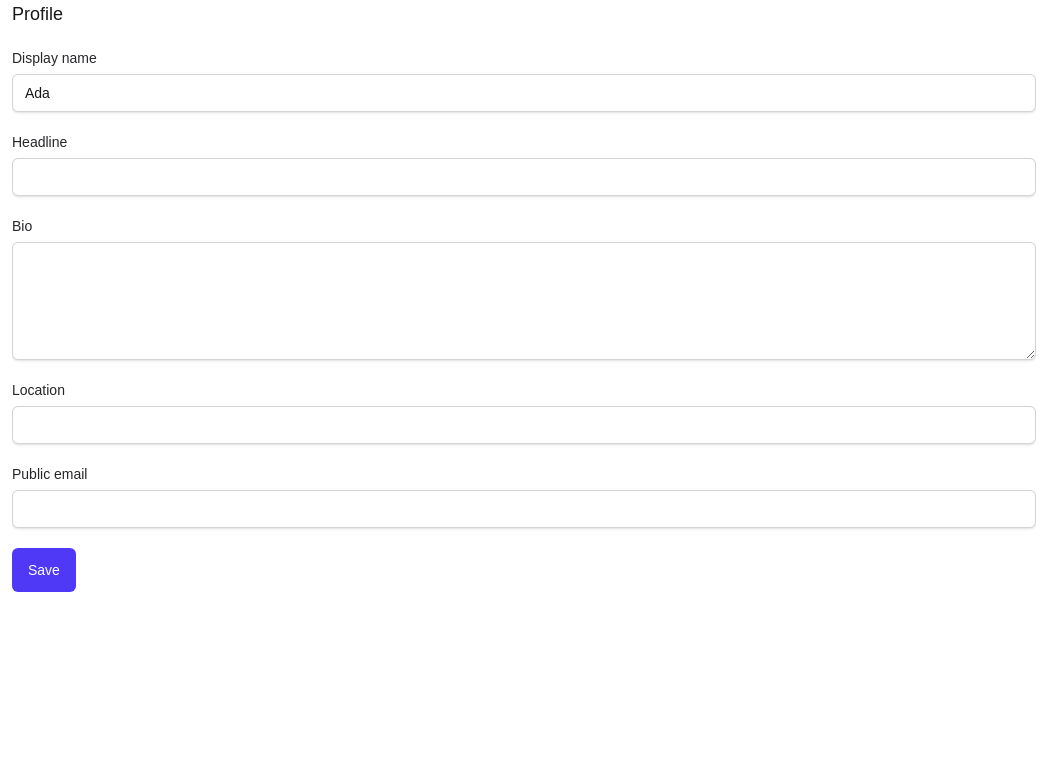
Test: ProfileEditor › shows a network error when the request fails
Expected: the field labelled "Display name" is shown, [12,74,1036,112]
Type "x" into the field labelled "Headline" at [524, 177], box [12,158,1036,196]
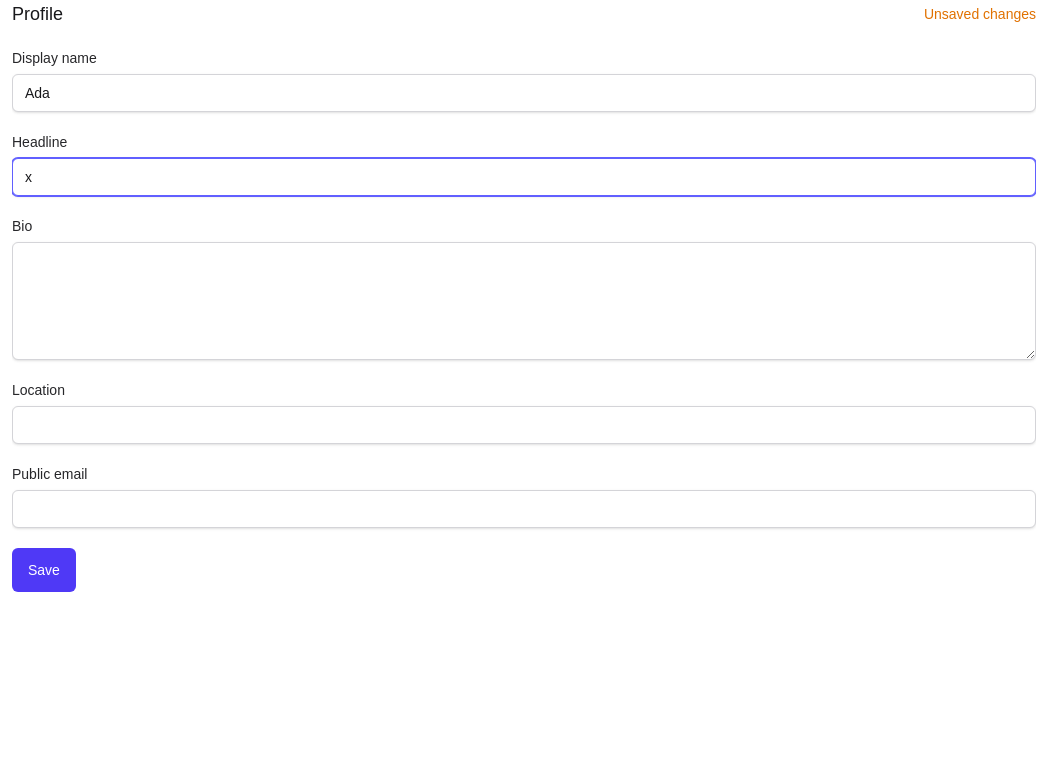
Click the button "Save" at [44, 570], box [12,548,76,592]
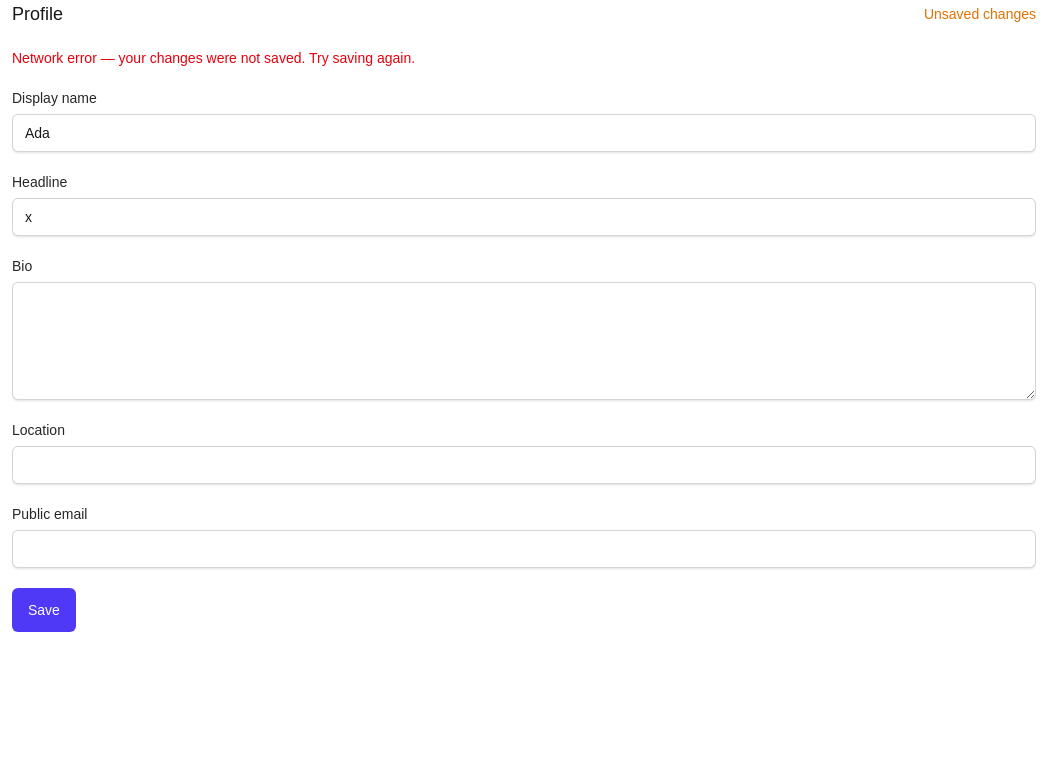
Now the text "Network error — your changes were not saved. Try saving again." is shown, box [12,50,415,66]
